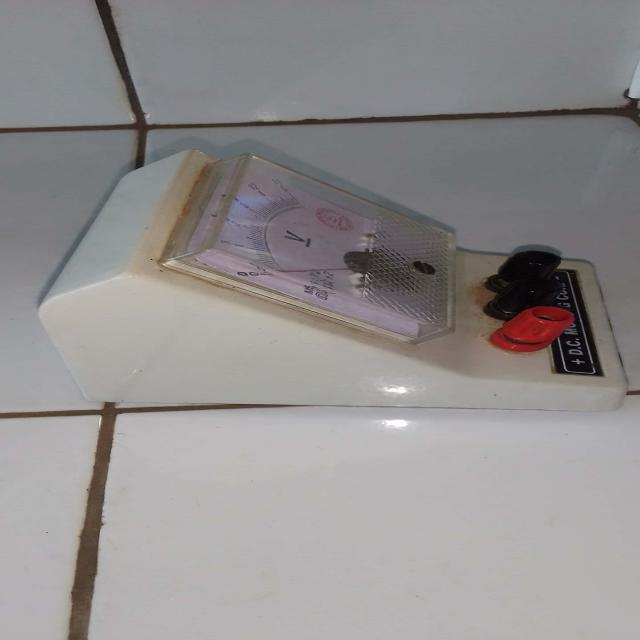Analog Voltmeter: (22, 142, 640, 426)
